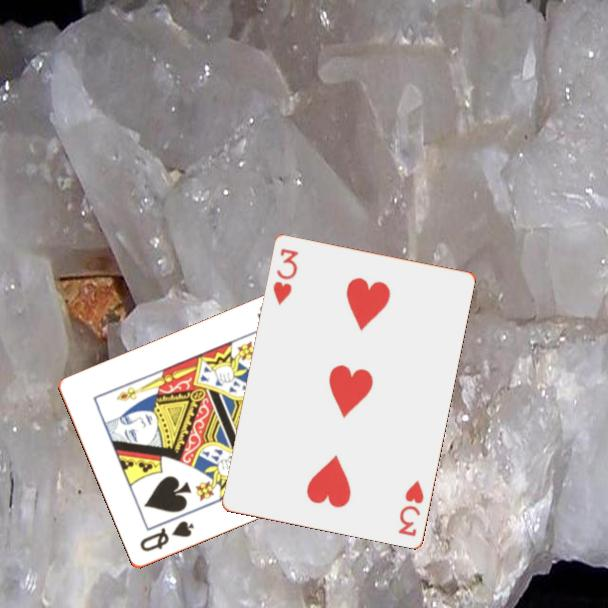h03: (269, 245, 301, 308), (394, 476, 426, 539)
s12: (136, 518, 197, 555)
